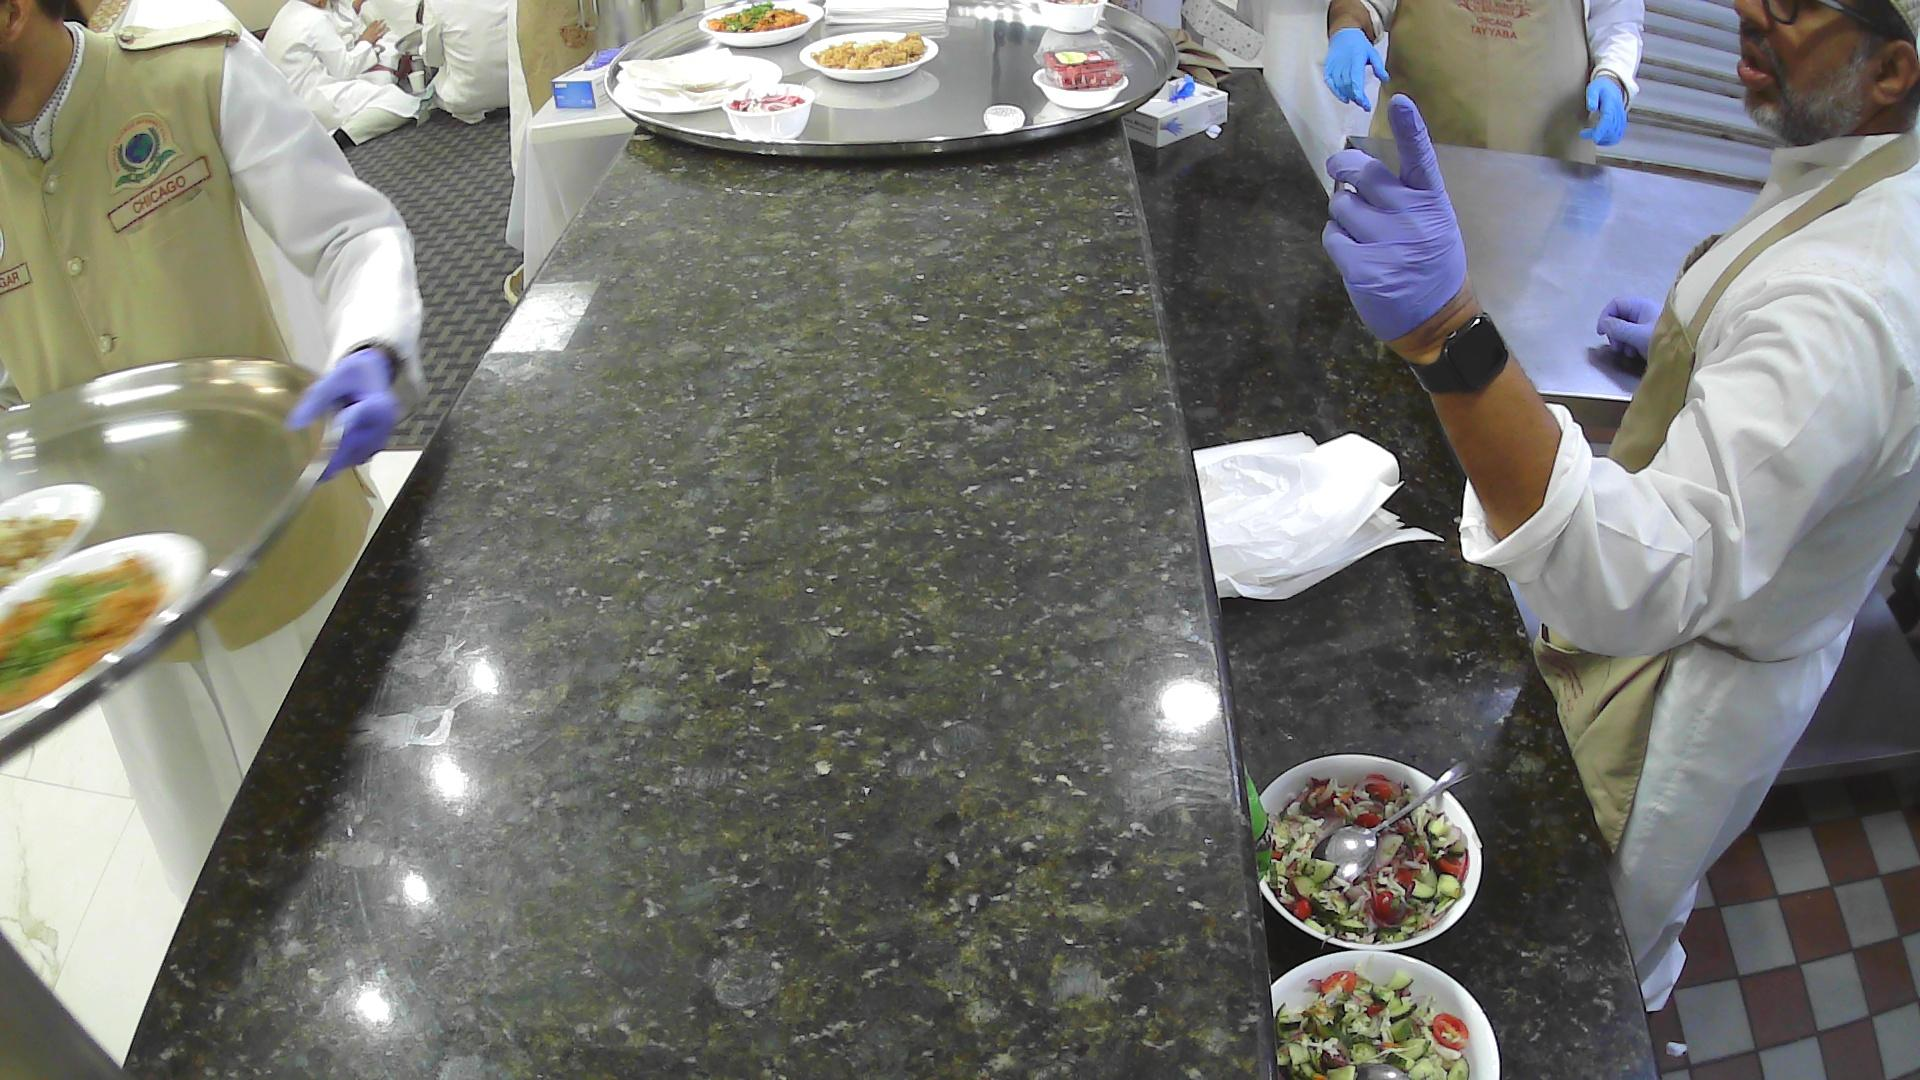thaal: (0, 355, 345, 767), (603, 0, 1180, 165)
